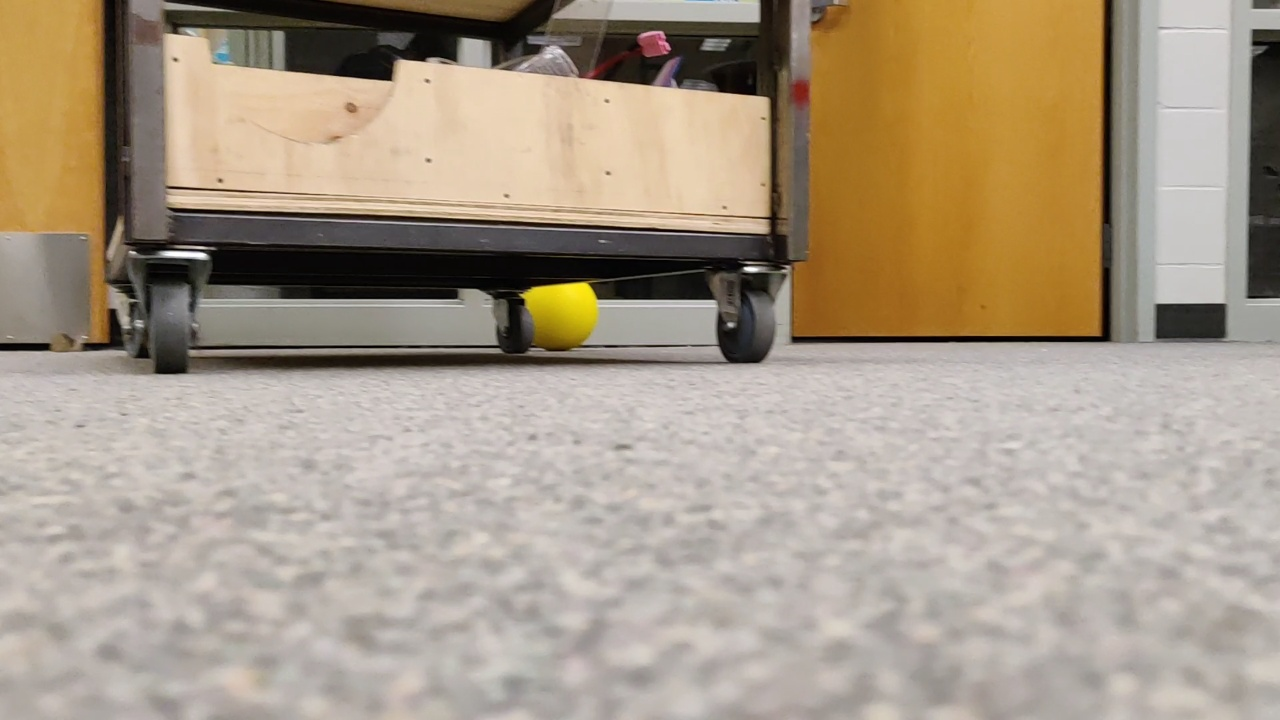Ball: (517, 278, 620, 349)
